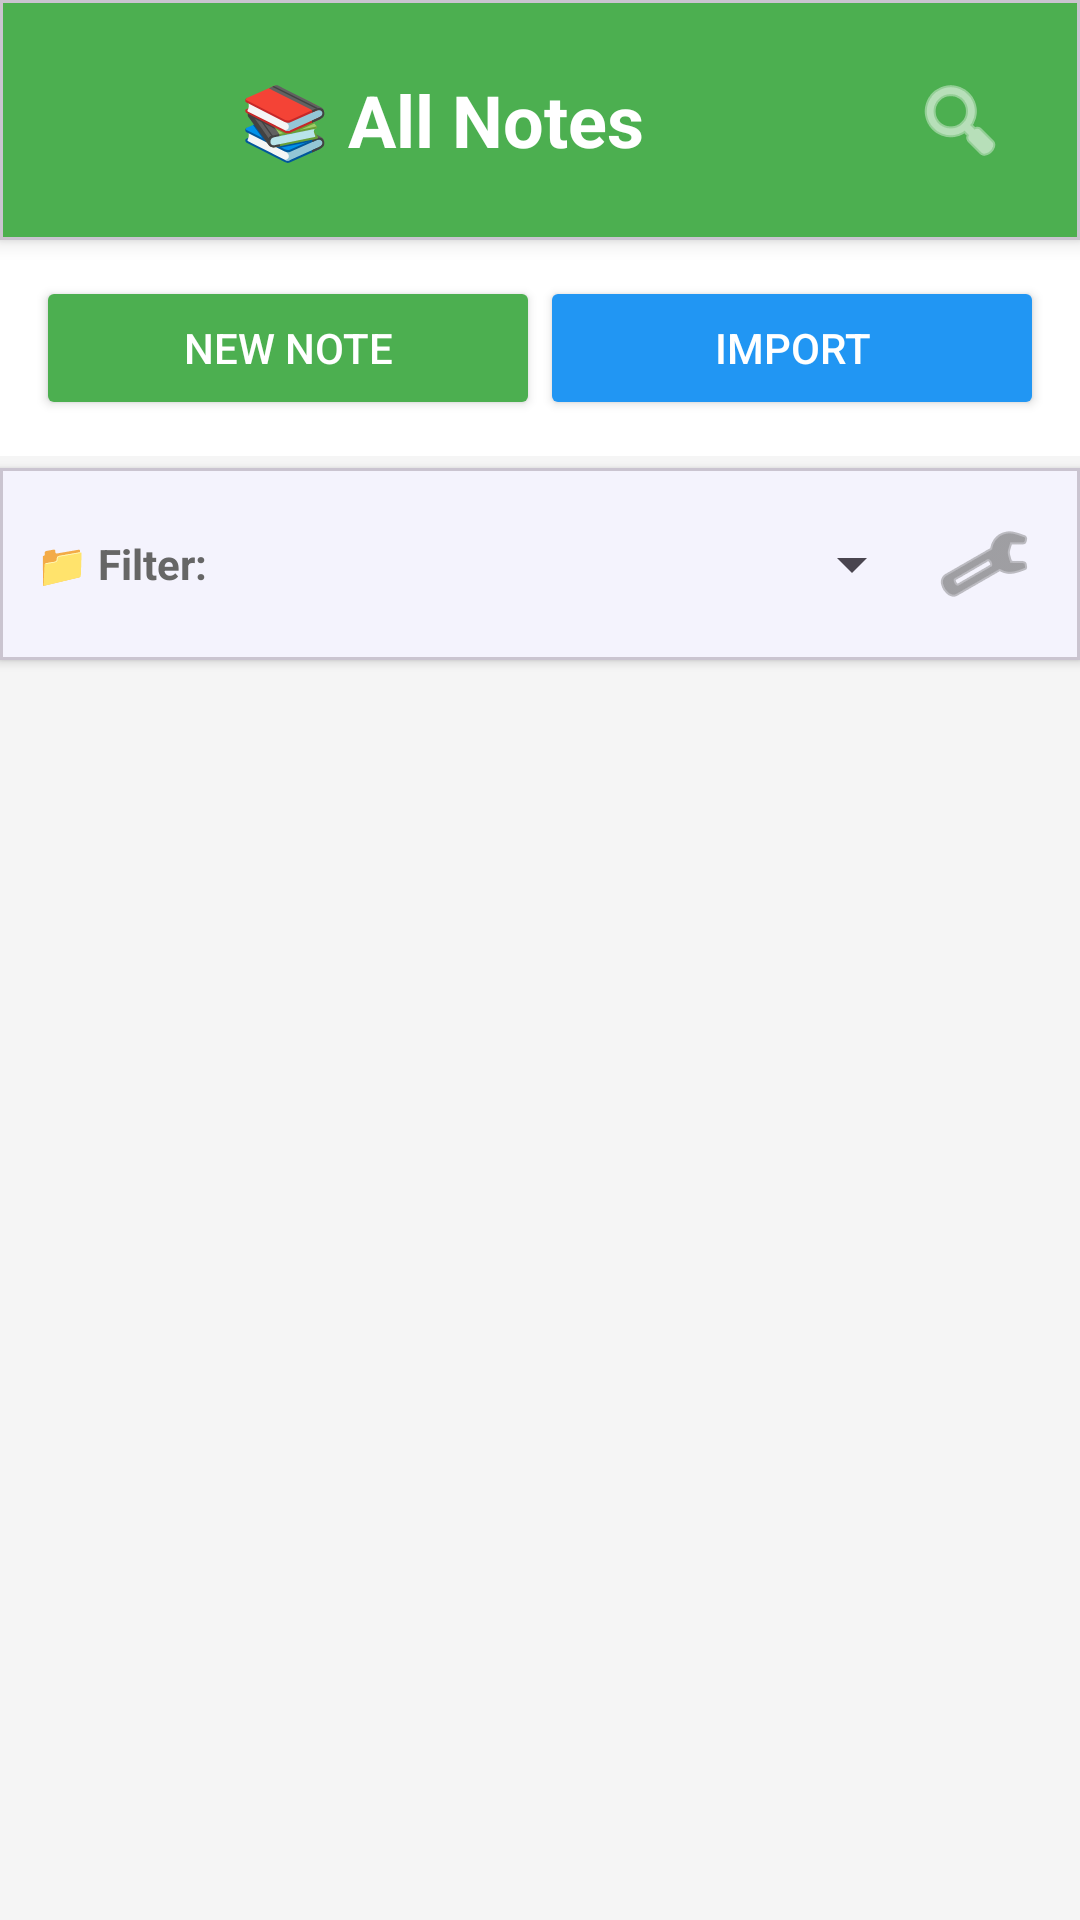

Locate icon controls on the screen. Image size 1080x1920, boxes as BBox(x1, y1, x2, y2).
Manage categories: BBox(941, 531, 1027, 597)
Search: BBox(925, 85, 995, 156)
